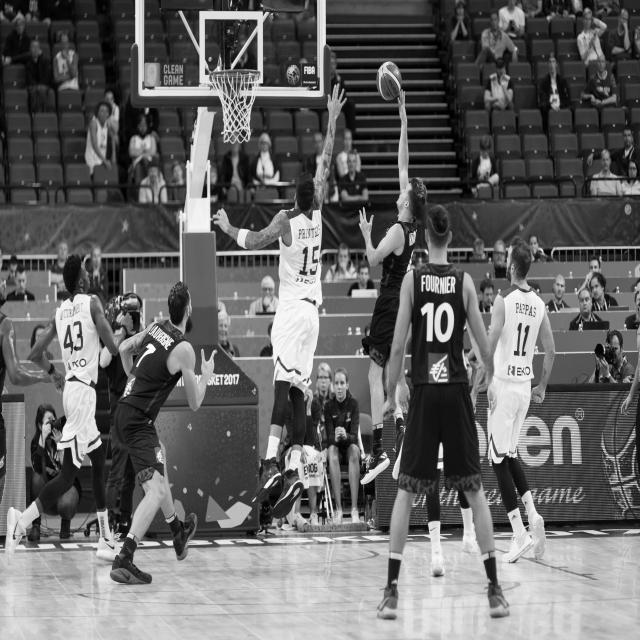backboard: (130, 2, 328, 111)
